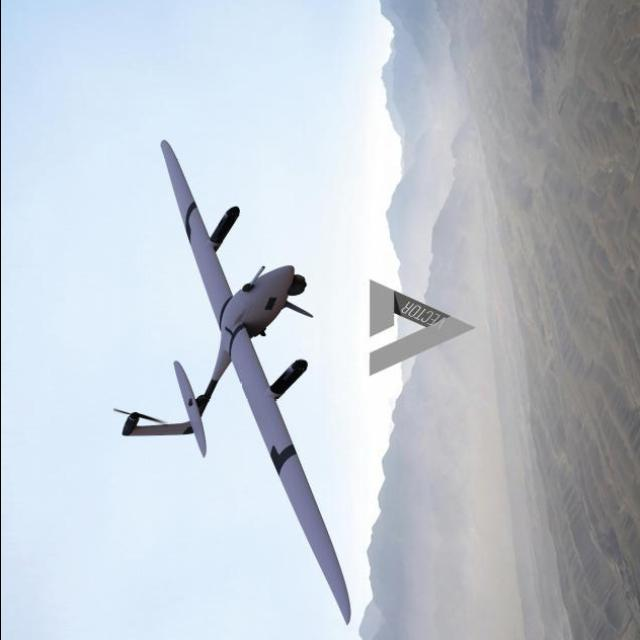plane: (110, 139, 352, 626)
